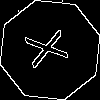X: (25, 25, 78, 69)
